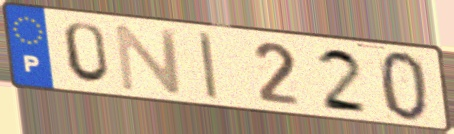0: (377, 49, 431, 123), (60, 20, 112, 86)
2: (313, 47, 370, 116), (251, 41, 303, 109)
I: (195, 30, 222, 103)
N: (112, 22, 186, 96)
